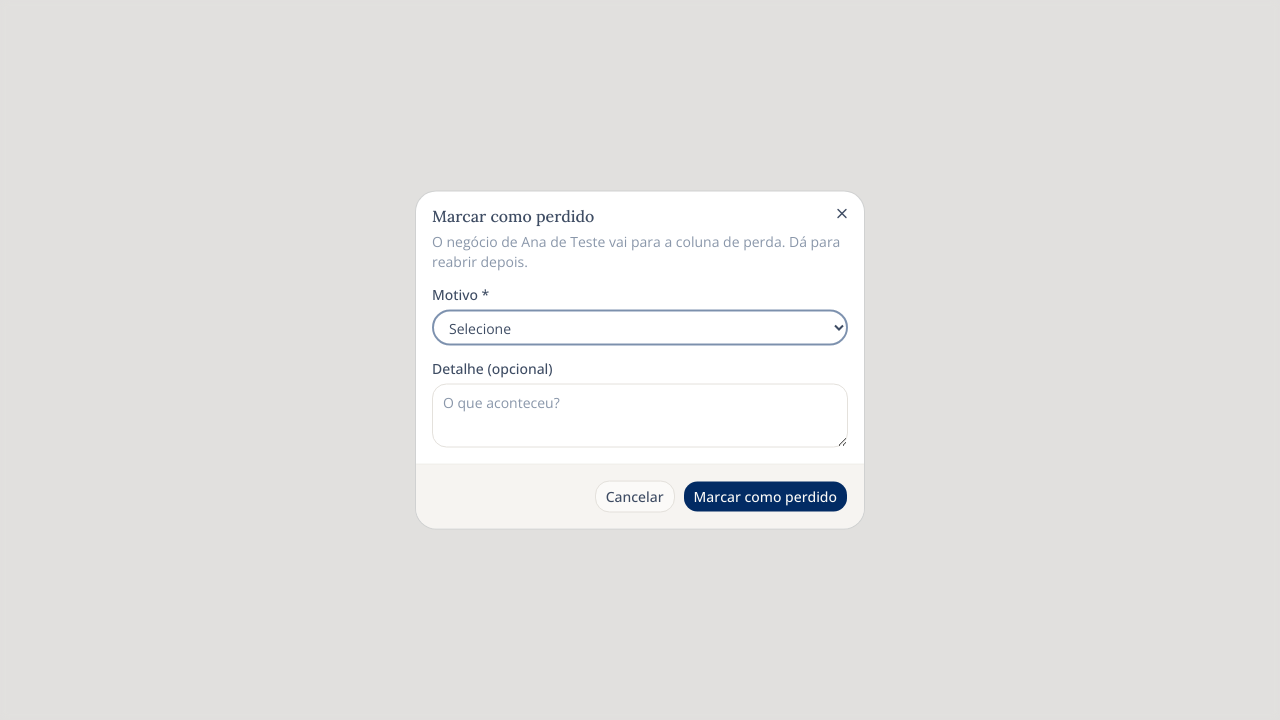
DialogoDePerda › recusa do servidor aparece e não apaga o que foi escrito
Select "Preço" in the dropdown labelled "Motivo *" at [640, 328], box [432, 310, 848, 346]
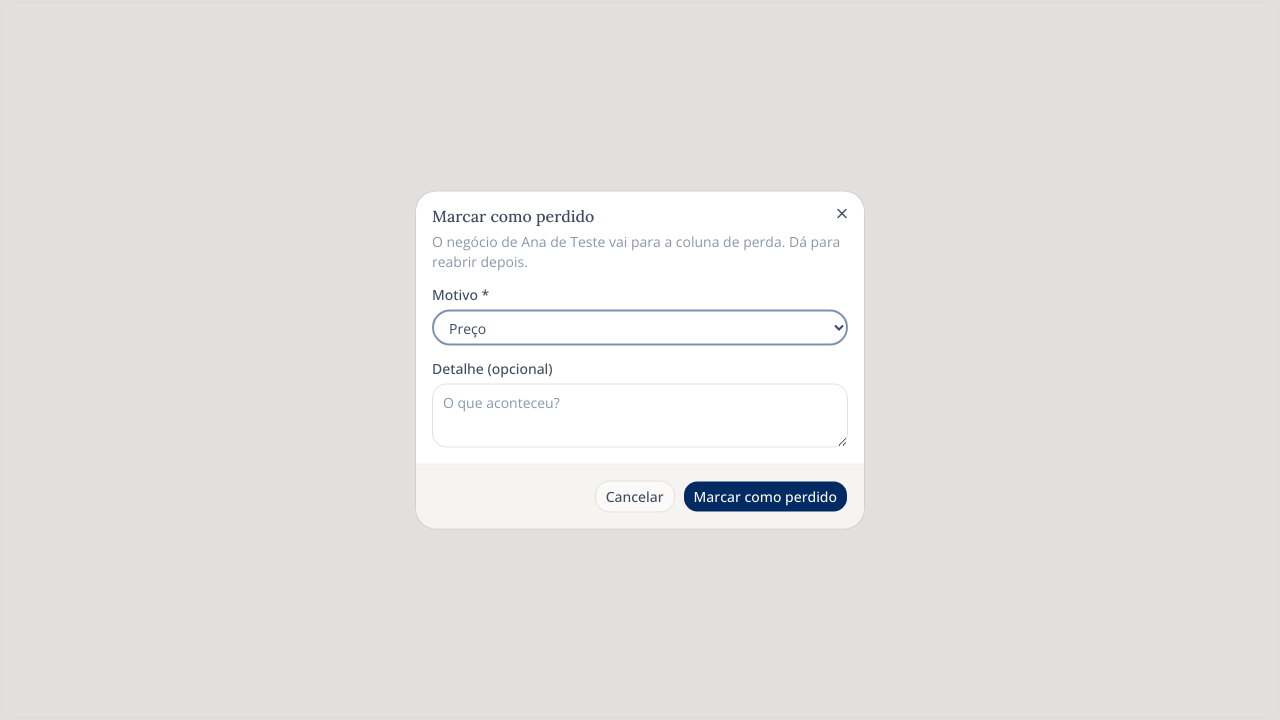
Click the button "Marcar como perdido" at [765, 496], box [683, 480, 848, 512]
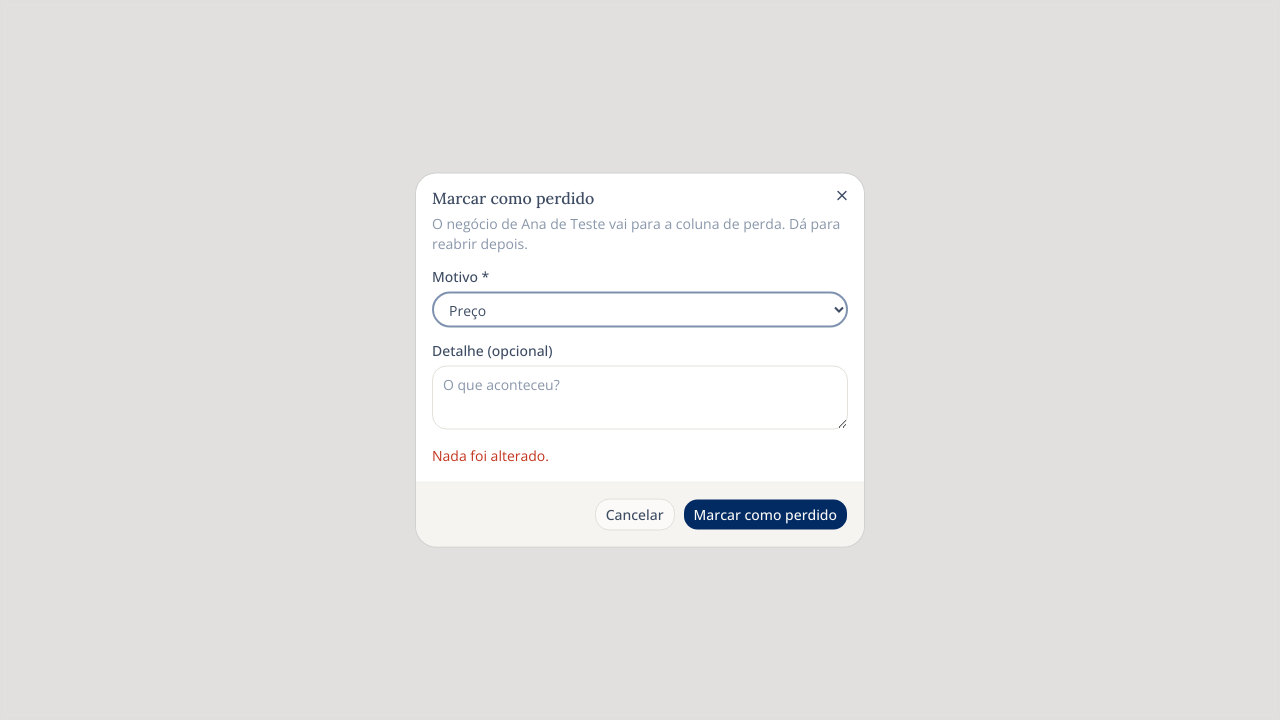
Check: the text "Nada foi alterado." is shown, box [432, 446, 549, 464]
